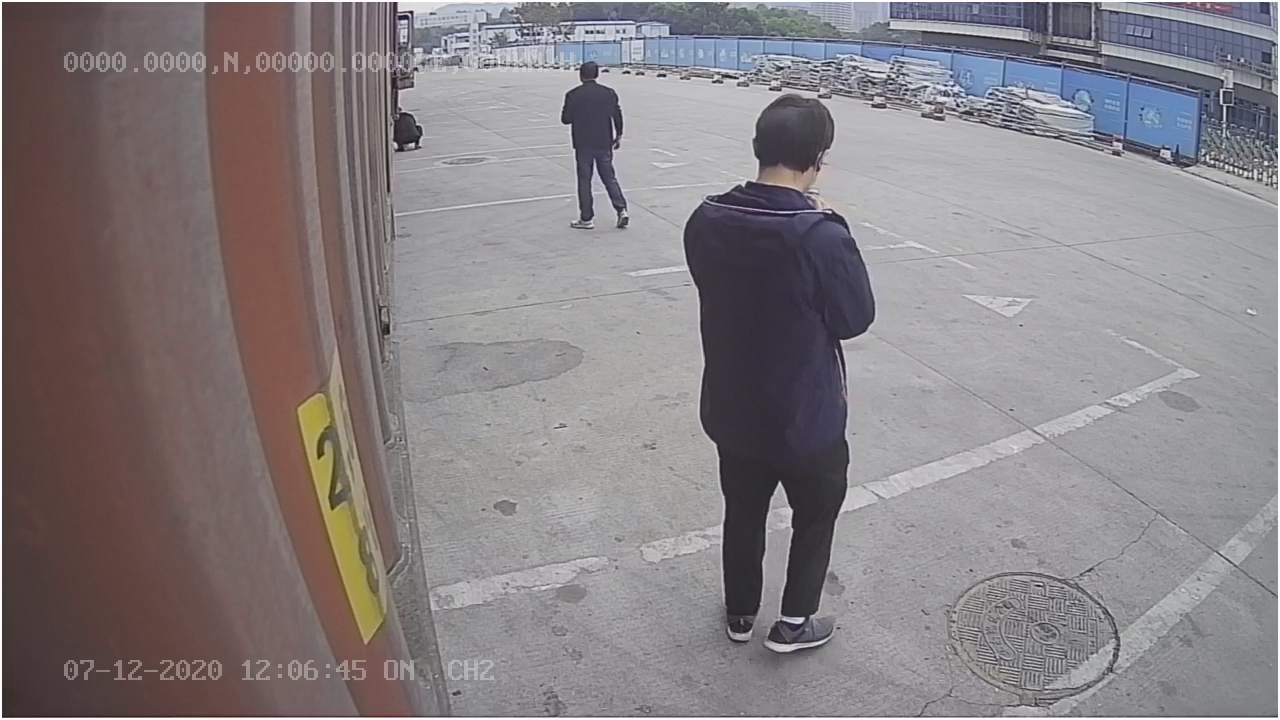person: (675, 84, 872, 655)
